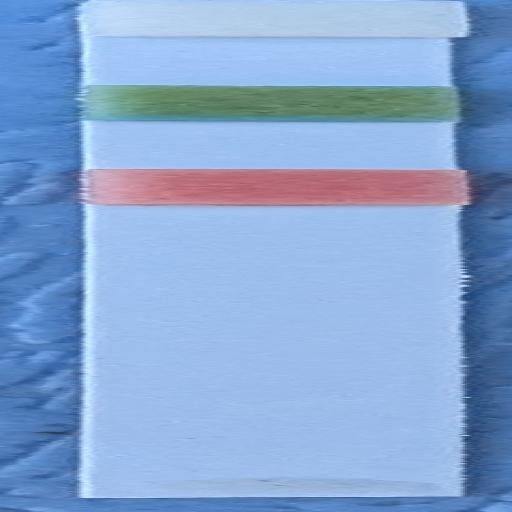pads: (72, 84, 478, 123), (72, 0, 474, 37), (86, 168, 471, 204)
